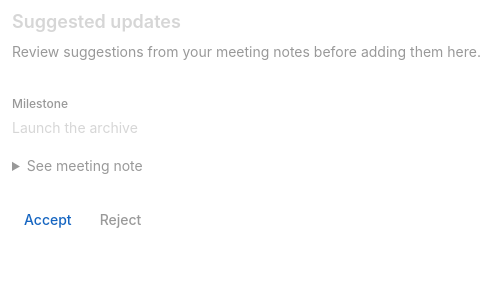
loads an entity-scoped proposal and keeps exact evidence collapsed
The image size is (497, 289).
Click the heading "See meeting note". click: (85, 166)
box: [27,157,143,174]
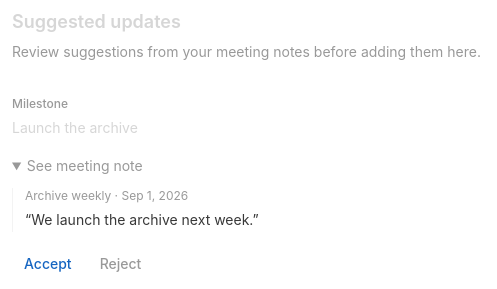
Result: the text "Archive weekly" is shown at [25,188,111,203]
Result: the text "Sep 1, 2026" is shown at [111,188,188,203]
Result: the text "We launch the archive next week." is shown at [31,211,253,228]
